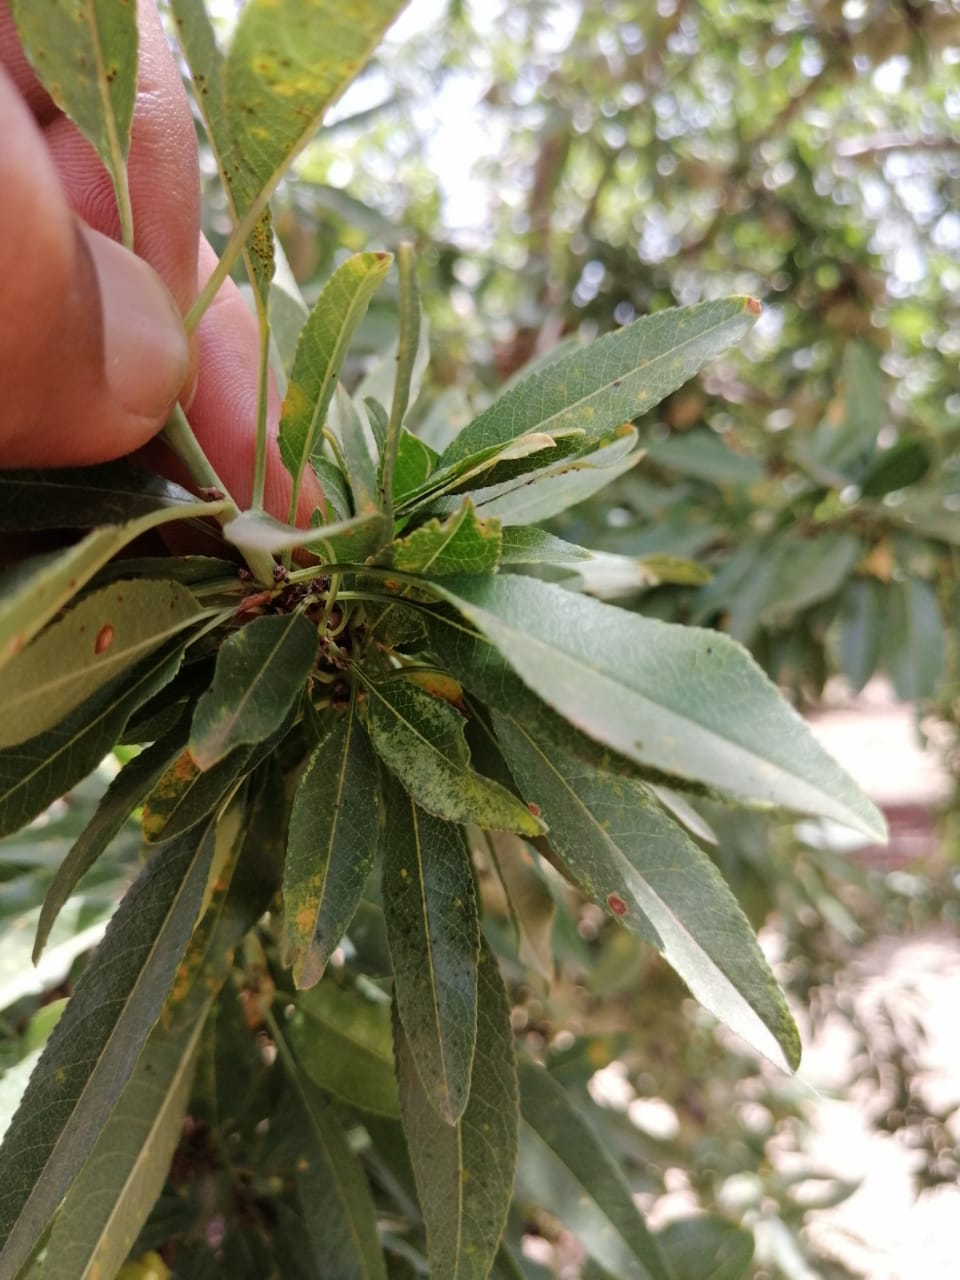faux tigre: (355, 677, 551, 849), (280, 722, 383, 990), (188, 608, 322, 773)
